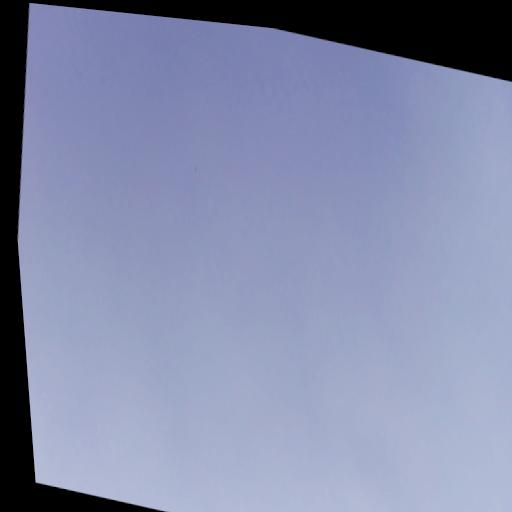drones: (192, 163, 200, 175)
